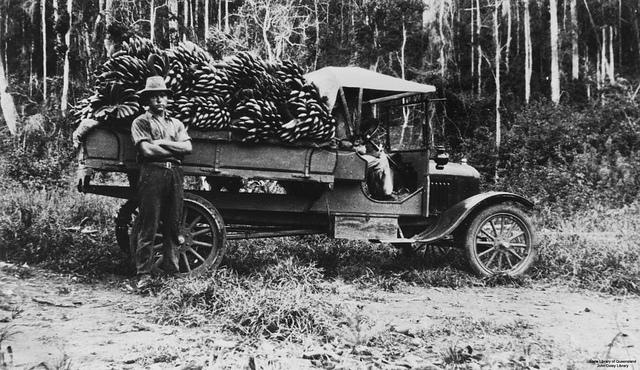banana: (136, 59, 148, 70), (130, 58, 140, 70), (262, 106, 270, 114), (102, 90, 110, 98), (198, 74, 208, 80), (238, 122, 251, 126), (244, 120, 256, 124), (142, 58, 148, 66), (294, 127, 300, 133), (266, 96, 272, 102), (200, 119, 207, 124), (228, 84, 236, 88), (200, 91, 210, 94), (197, 57, 203, 61), (286, 74, 292, 78), (248, 76, 254, 80), (322, 116, 326, 121), (208, 107, 214, 110), (275, 78, 278, 83), (208, 96, 214, 98)
